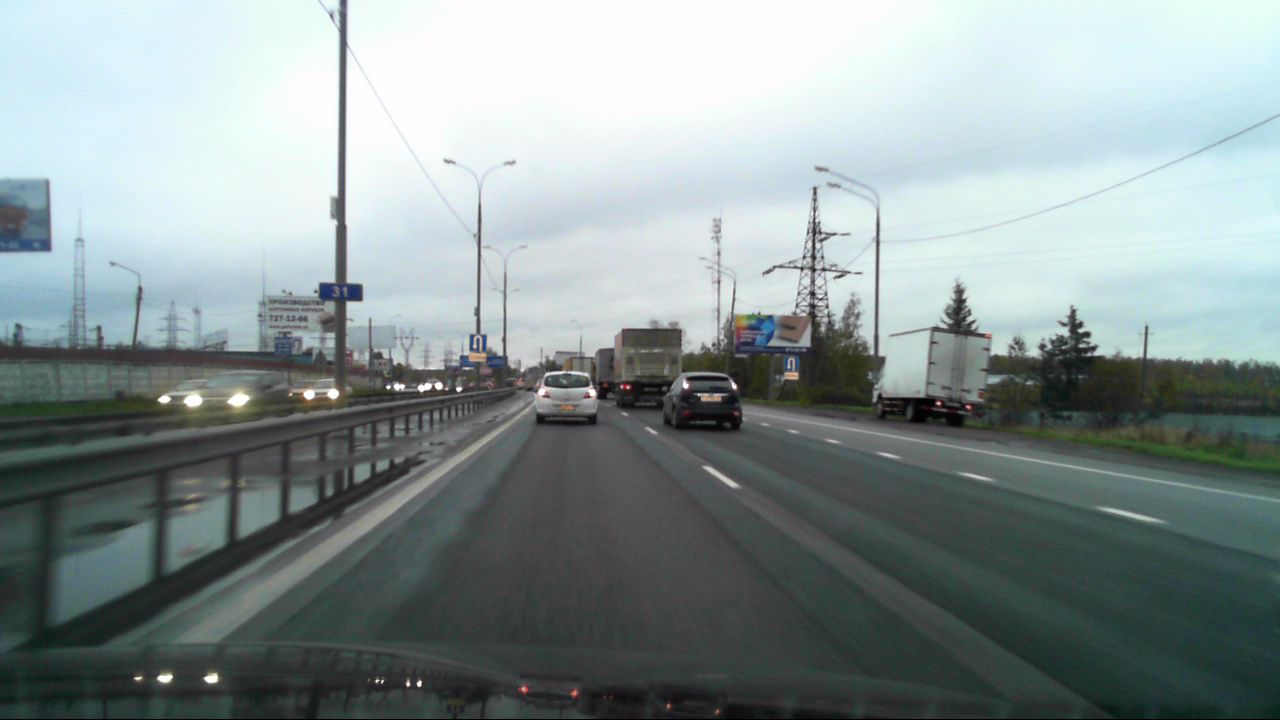U-turn: (469, 334, 486, 353), (784, 356, 799, 372)
